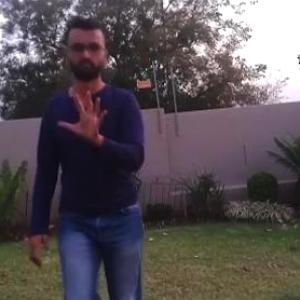follow_hand: (56, 86, 110, 144)
